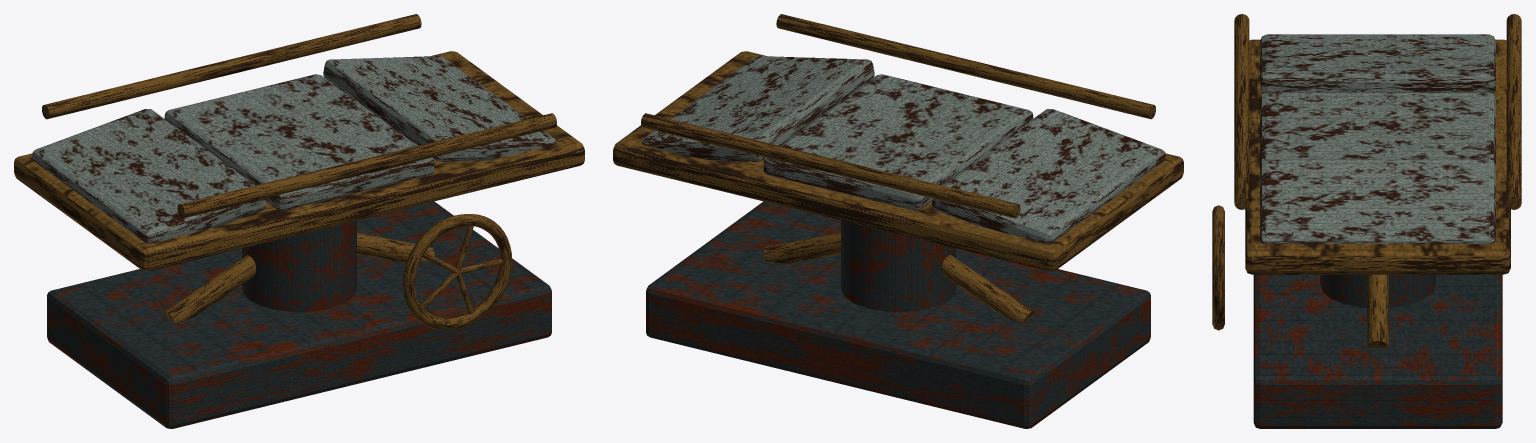
The model's file is abyssal-surgical-table.glb.
3 views of the same model, side by side, from view 1: azimuth 30°, elevation 25°; view 2: azimuth 150°, elevation 25°; view 3: azimuth 270°, elevation 25° (orthographic).
Parts seen in each view (by area): view 1: L03_abyssal-surgical-table_L03_oxidized-iron, L03_abyssal-surgical-table_L03_enamel-ivory, L03_abyssal-surgical-table_L03_aged-brass; view 2: L03_abyssal-surgical-table_L03_oxidized-iron, L03_abyssal-surgical-table_L03_enamel-ivory, L03_abyssal-surgical-table_L03_aged-brass; view 3: L03_abyssal-surgical-table_L03_enamel-ivory, L03_abyssal-surgical-table_L03_oxidized-iron, L03_abyssal-surgical-table_L03_aged-brass.
Part boxes in pixels (x1,y1,x2,y2): L03_abyssal-surgical-table_L03_oxidized-iron: (47, 201, 551, 428); L03_abyssal-surgical-table_L03_enamel-ivory: (32, 56, 555, 243); L03_abyssal-surgical-table_L03_aged-brass: (14, 14, 584, 329); L03_abyssal-surgical-table_L03_oxidized-iron: (646, 201, 1150, 428); L03_abyssal-surgical-table_L03_enamel-ivory: (642, 56, 1165, 243); L03_abyssal-surgical-table_L03_aged-brass: (613, 14, 1183, 322); L03_abyssal-surgical-table_L03_enamel-ivory: (1260, 34, 1495, 243); L03_abyssal-surgical-table_L03_oxidized-iron: (1253, 274, 1502, 428); L03_abyssal-surgical-table_L03_aged-brass: (1212, 14, 1521, 347).
Size of the model in its own units: 3.1 by 1.54 by 1.86.
3 materials, 3 textured.
